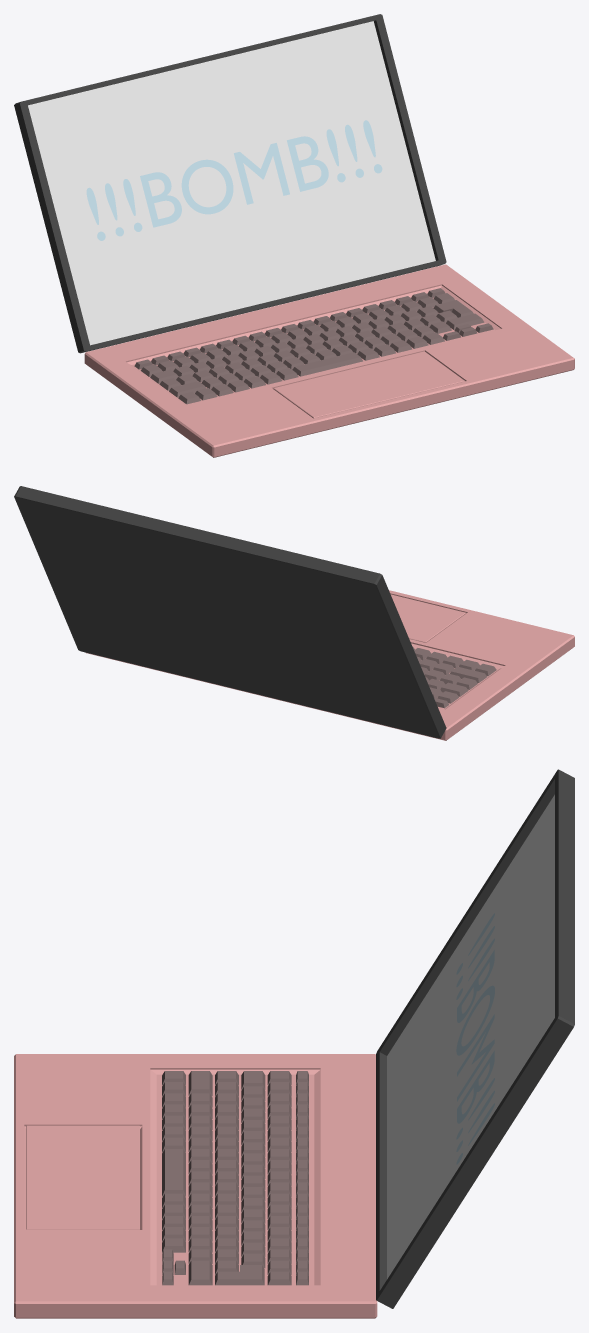
3 views of the same model, one above another, from view 1: azimuth 30°, elevation 25°; view 2: azimuth 150°, elevation 25°; view 3: azimuth 270°, elevation 25° (orthographic). The views are drawn at different scales.
Visible parts, largest first — view 1: Cube.001, Cube, Cube.003, BOM; view 2: Cube.001, Cube, Cube.003; view 3: Cube, Cube.001, Cube.003, BOM.
Boxes of the visible parts, x1,y1,x2,y2 form: Cube.001: [14, 14, 446, 353]; Cube: [84, 264, 574, 457]; Cube.003: [134, 288, 493, 404]; BOM: [86, 120, 382, 240]; Cube.001: [14, 486, 446, 738]; Cube: [86, 590, 574, 740]; Cube.003: [412, 646, 496, 708]; Cube: [14, 1054, 377, 1318]; Cube.001: [376, 769, 574, 1308]; Cube.003: [162, 1071, 308, 1285]; BOM: [456, 913, 494, 1164].
Size of the model in its own units: 267 by 151 by 254.
